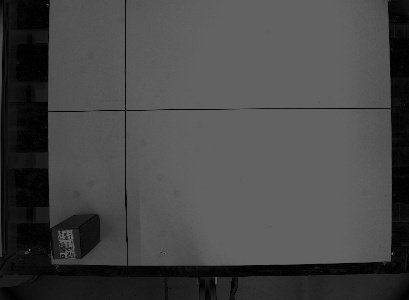b2: (48, 212, 103, 261)
